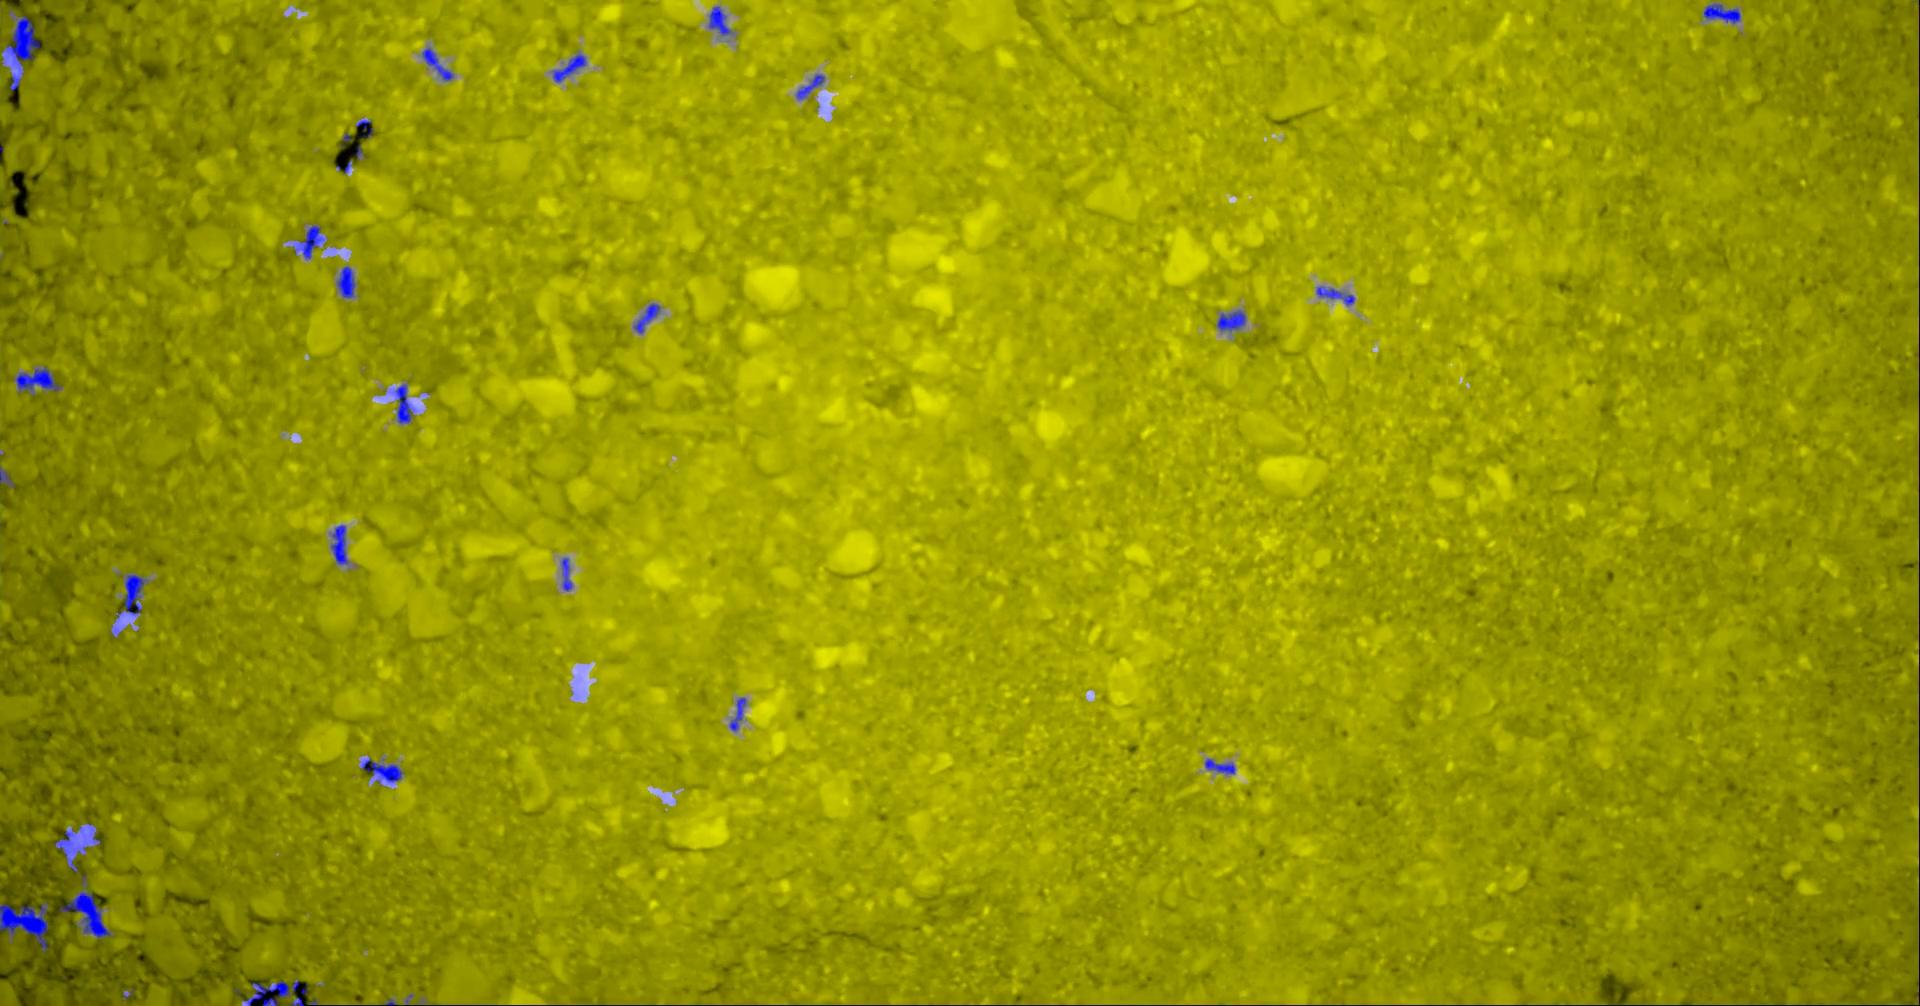ant: (58, 874, 110, 937), (5, 15, 39, 66), (243, 981, 307, 1005), (15, 366, 61, 395), (116, 574, 146, 617), (422, 47, 453, 80), (361, 758, 403, 782), (55, 828, 77, 871), (552, 53, 585, 83), (296, 225, 323, 259), (632, 304, 660, 333), (1703, 3, 1740, 23), (1316, 286, 1354, 305), (796, 74, 824, 99), (395, 384, 413, 423), (330, 525, 348, 564), (709, 6, 731, 34), (1217, 310, 1244, 330), (337, 265, 354, 297), (729, 697, 745, 730), (1204, 758, 1234, 774), (561, 558, 571, 591), (356, 119, 373, 137), (0, 466, 14, 486), (9, 72, 22, 90)
